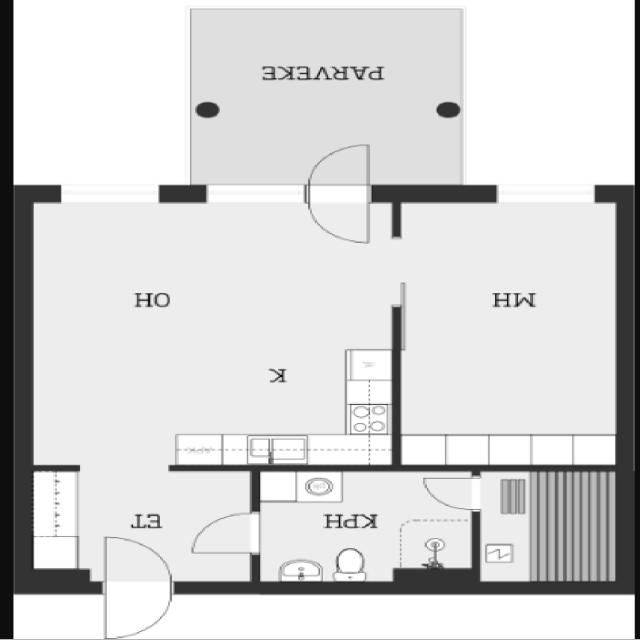door: (96, 529, 168, 639), (302, 144, 380, 245), (188, 512, 268, 558), (422, 474, 488, 511)
window: (37, 181, 174, 207), (197, 178, 311, 209), (483, 181, 602, 205)
zone: (23, 196, 397, 466), (397, 191, 624, 469), (18, 468, 254, 589), (255, 466, 472, 587), (472, 470, 621, 587)
